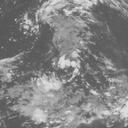cyclone: (30, 0, 121, 84)
